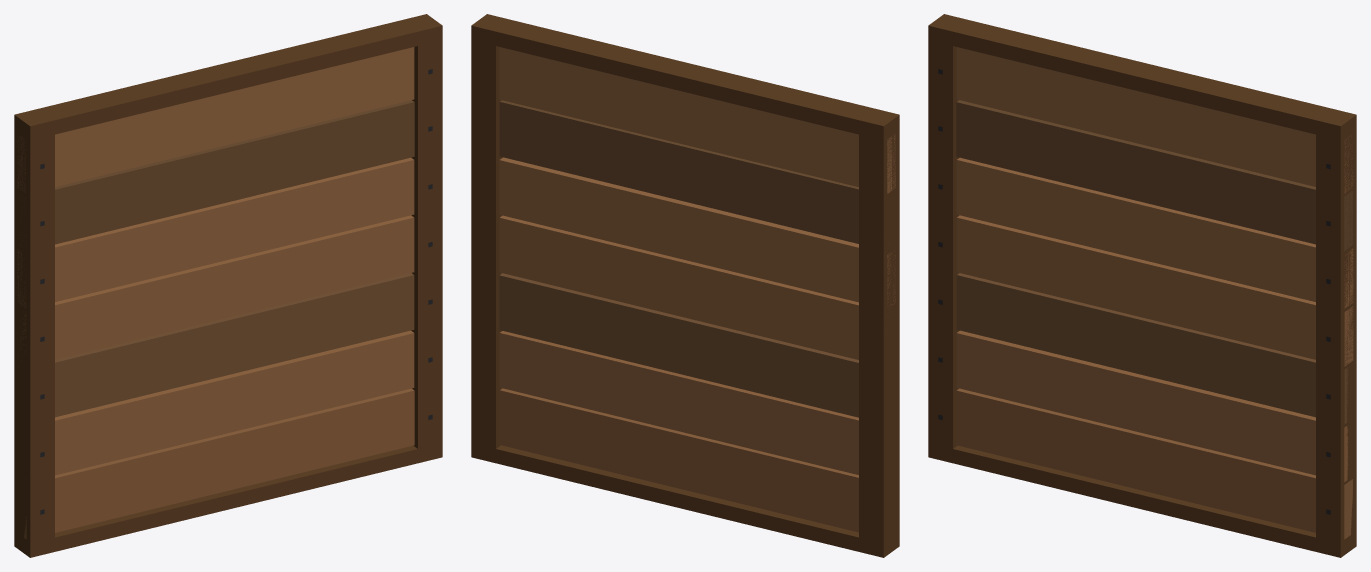
The model's file is wall_wood_planks.gltf.
3 renders of one model, left to right at view 1: azimuth 30°, elevation 25°; view 2: azimuth 150°, elevation 25°; view 3: azimuth 330°, elevation 25°, orthographic.
Parts seen in each view (by area): view 1: wall_wood_planks; view 2: wall_wood_planks; view 3: wall_wood_planks.
Boxes of the visible parts, left/top/right/bottom form: wall_wood_planks: left=14, top=14, right=442, bottom=557; wall_wood_planks: left=471, top=14, right=899, bottom=557; wall_wood_planks: left=928, top=14, right=1356, bottom=557.
Size of the model in its own units: 3 by 3 by 0.201.
